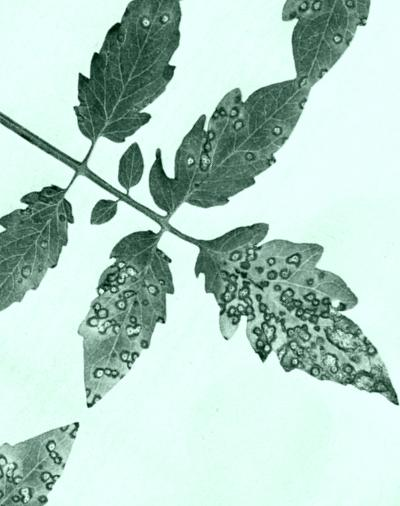Tomato Septoria leaf spot: (164, 193, 400, 441), (133, 41, 329, 255), (32, 214, 207, 419), (40, 0, 215, 167), (0, 160, 98, 357)
